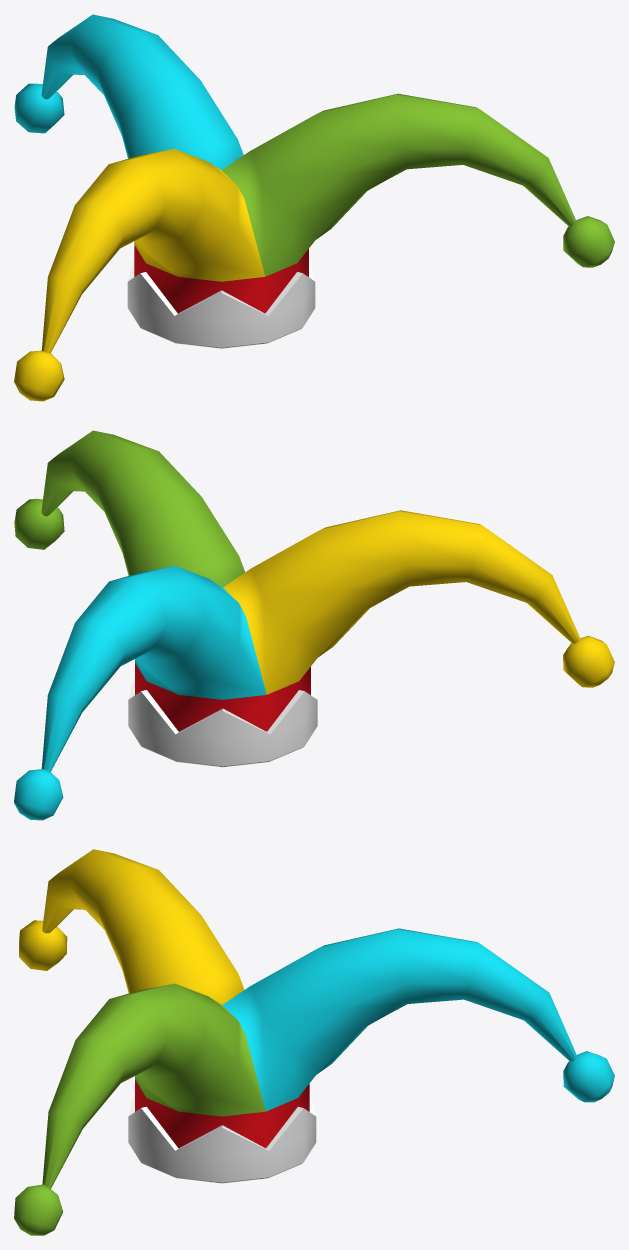
Rendered from clown.fbx.
The picture shows the model from 3 angles, top to bottom: view 1: azimuth 30°, elevation 25°; view 2: azimuth 150°, elevation 25°; view 3: azimuth 270°, elevation 25°; orthographic projection.
Parts seen in each view (by area): view 1: clown_hat_mesh; view 2: clown_hat_mesh; view 3: clown_hat_mesh.
Boxes of the visible parts, x1,y1,x2,y2 form: clown_hat_mesh: [14, 14, 614, 401]; clown_hat_mesh: [14, 430, 614, 820]; clown_hat_mesh: [14, 849, 614, 1235].
Bounding box in the file's own units: 4.13 × 1.43 × 3.63.
